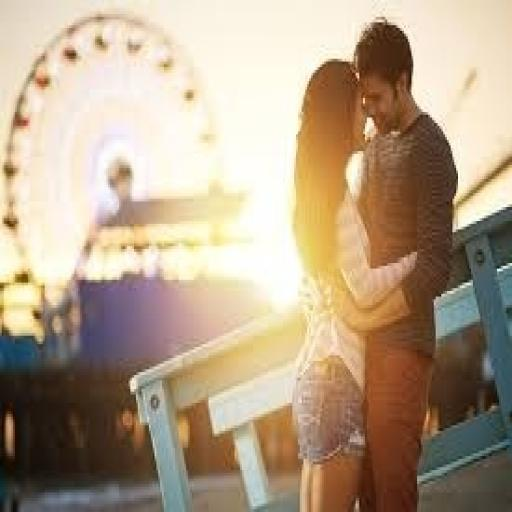hugging: (288, 14, 460, 509)
